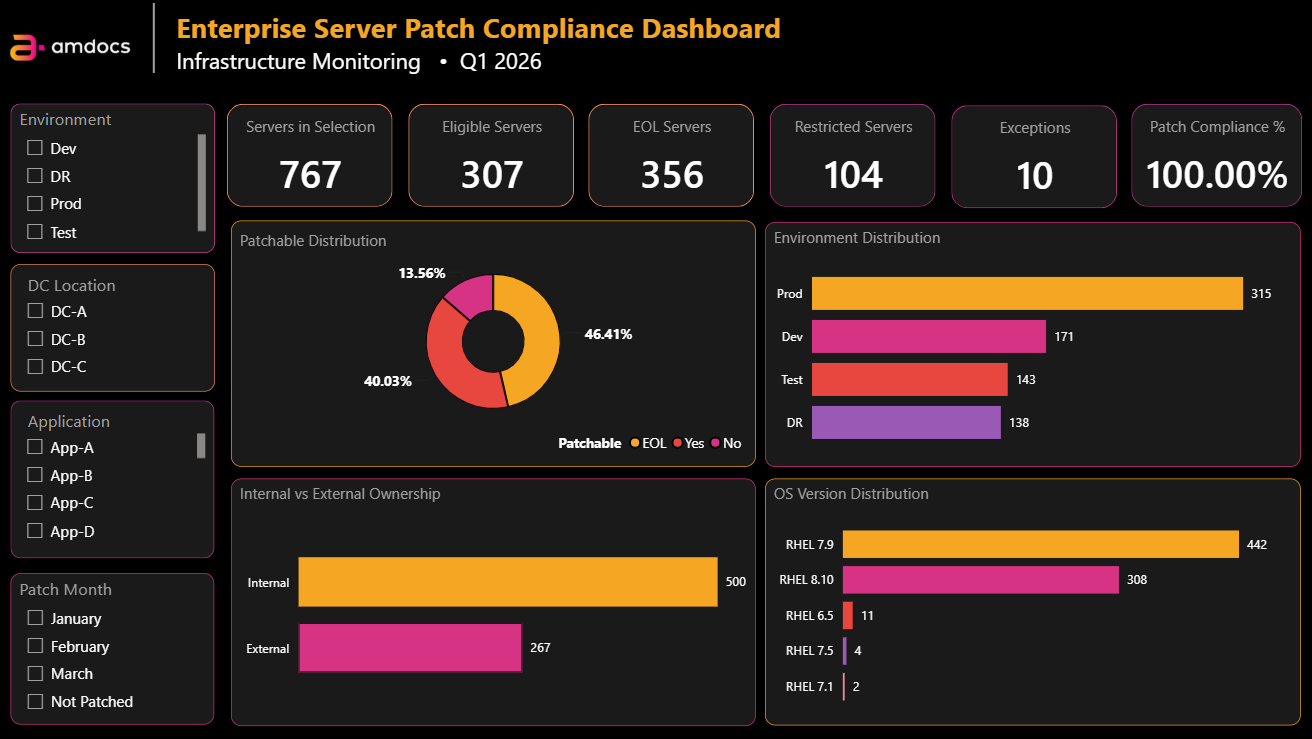

Layout of this report page (visuals, bound fields, positions):
{"tool":"powerbi","page":{"name":"Page 1","canvas":[1280,720],"ordinal":0},"visuals":[{"type":"image","box":[0,0,140.8,89.3],"z":0},{"type":"cardVisual","title":"Servers","fields":{"Data":["Patch Linux.Total Servers"]},"box":[208.5,88.9,185,124],"z":1000},{"type":"donutChart","title":"Patchable Distribution","fields":{"Category":["Patch Linux.Patchable"],"Y":["Count(Patch Linux.Host Name)"]},"box":[224.1,215,510.3,239.2],"z":2000},{"type":"cardVisual","fields":{"Data":["Patch Linux.Eligible Servers"]},"box":[384.4,88.9,185,124],"z":3000},{"type":"clusteredBarChart","title":"Environment Distribution","fields":{"Category":["Patch Linux.Env"],"Y":["CountNonNull(Patch Linux.Host Name)"]},"box":[743.7,215.5,520.6,238.3],"z":4000},{"type":"cardVisual","fields":{"Data":["Patch Linux.Restricted Servers"]},"box":[736.3,89.5,185,124.5],"z":5000},{"type":"clusteredBarChart","title":"Internal vs External Ownership","fields":{"Category":["Patch Linux.App_managed_internal or external"],"Y":["CountNonNull(Patch Linux.Host Name)"]},"box":[224.1,464.9,510.3,240.8],"z":6000},{"type":"cardVisual","fields":{"Data":["Patch Linux.EOL Servers"]},"box":[560.4,89.5,185,124.5],"z":7000},{"type":"clusteredBarChart","title":"OS Version Distribution","fields":{"Y":["CountNonNull(Patch Linux.Host Name)"],"Category":["Patch Linux.Current Version"]},"box":[743.7,464.4,520.6,239.8],"z":8000},{"type":"cardVisual","fields":{"Data":["Patch Linux.Exceptions"]},"box":[912.3,91.1,185,124.5],"z":9000},{"type":"slicer","title":"Environment","fields":{"Values":["Patch Linux.Env"]},"box":[10.6,99.9,198.4,145.4],"z":10000},{"type":"slicer","fields":{"Values":["Patch Linux.DC Location"]},"box":[10.6,255.9,198.4,124.2],"z":11000},{"type":"slicer","fields":{"Values":["Patch Linux.Application"]},"box":[10.2,389.2,198.3,153.1],"z":12000},{"type":"textbox","box":[166.6,3,660.2,86.3],"z":13000},{"type":"shape","box":[0,3,299,68.1],"z":14000},{"type":"slicer","title":"Patch Month","fields":{"Values":["Patch Linux.Patch Month"]},"box":[10.2,556.9,198.3,147.2],"z":15000},{"type":"cardVisual","fields":{"Data":["Patch Linux.Patch Compliance %"]},"box":[1088.3,89.5,190,124.5],"z":16000}]}

Visuals, with their boxes in screenshot pixels (x1, y1, x2, y2), scaled from the page's 1280x720 canvas onto the 1312x739 screenshot:
image: bbox=(0, 0, 144, 92)
"Servers" cardVisual: bbox=(214, 91, 403, 219)
"Patchable Distribution" donutChart: bbox=(230, 221, 753, 466)
cardVisual - Patch Linux.Eligible Servers: bbox=(394, 91, 584, 219)
"Environment Distribution" clusteredBarChart: bbox=(762, 221, 1296, 466)
cardVisual - Patch Linux.Restricted Servers: bbox=(755, 92, 944, 220)
"Internal vs External Ownership" clusteredBarChart: bbox=(230, 477, 753, 724)
cardVisual - Patch Linux.EOL Servers: bbox=(574, 92, 764, 220)
"OS Version Distribution" clusteredBarChart: bbox=(762, 477, 1296, 723)
cardVisual - Patch Linux.Exceptions: bbox=(935, 94, 1125, 221)
"Environment" slicer: bbox=(11, 103, 214, 252)
slicer - Patch Linux.DC Location: bbox=(11, 263, 214, 390)
slicer - Patch Linux.Application: bbox=(10, 399, 214, 557)
textbox: bbox=(171, 3, 847, 92)
shape: bbox=(0, 3, 306, 73)
"Patch Month" slicer: bbox=(10, 572, 214, 723)
cardVisual - Patch Linux.Patch Compliance %: bbox=(1116, 92, 1310, 220)
